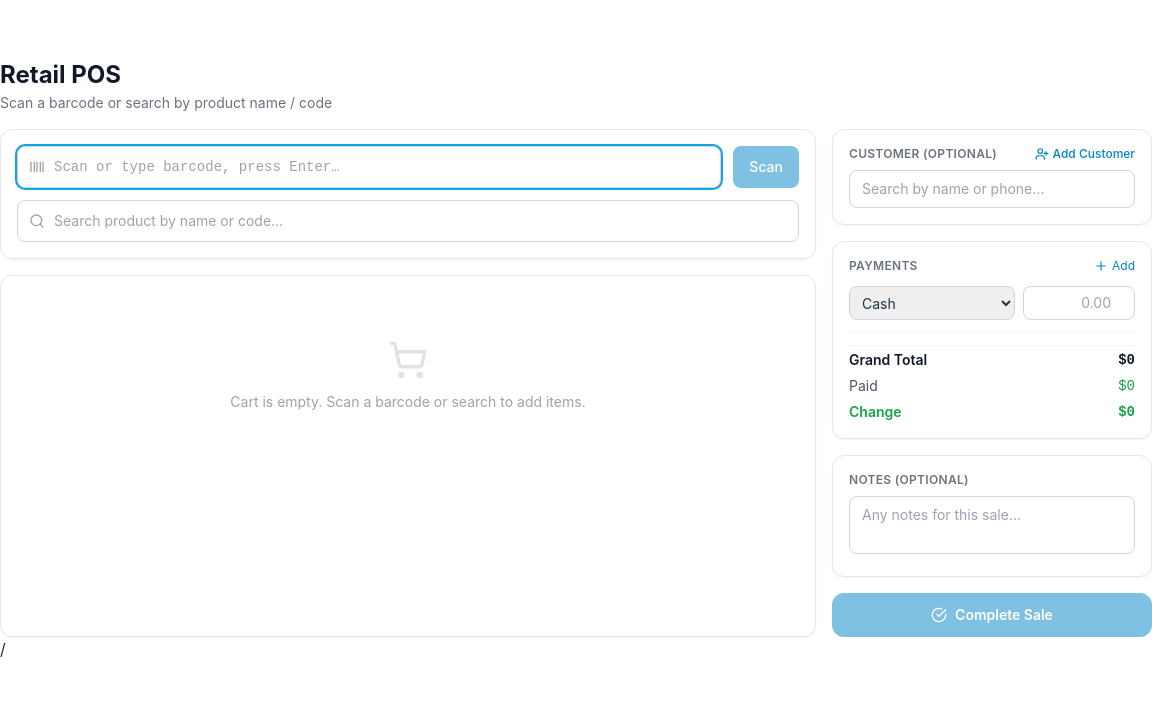
Test: Retail POS › submits the sale and shows the receipt with change
Type "0828156987886" into the field labelled "barcode" at [369, 167], box [17,146,721,188]
Then press Enter
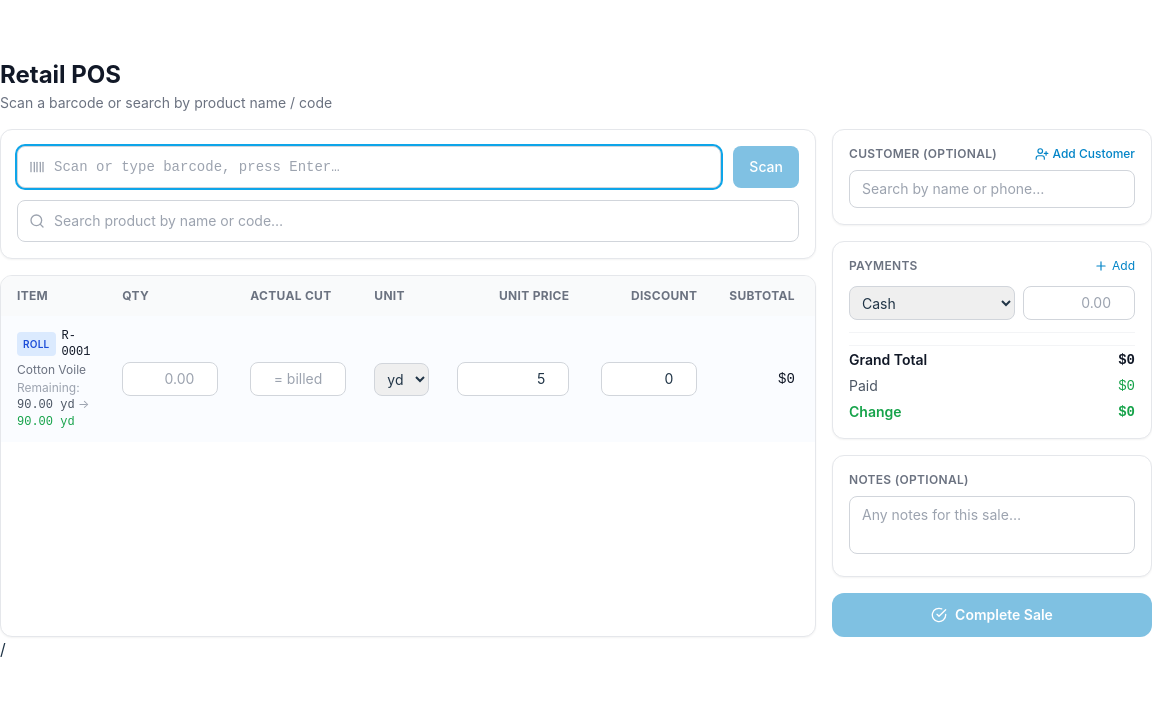
Result: the text "R-0001" is shown at [62,328,90,360]
Type "3" into the number field with placeholder "0.00" below "Roll" at [170, 379], box [122,362,218,396]
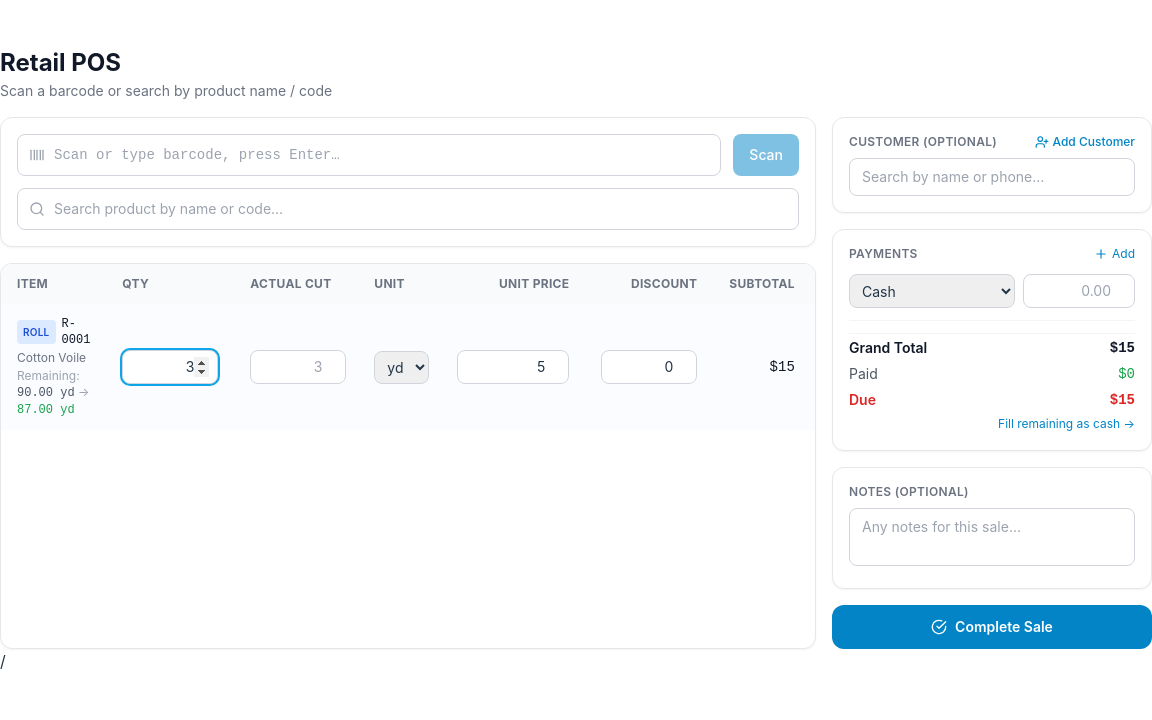
Type "3.25" into the number field named "Actual cut for R-0001" at [298, 367], box [250,350,346,384]
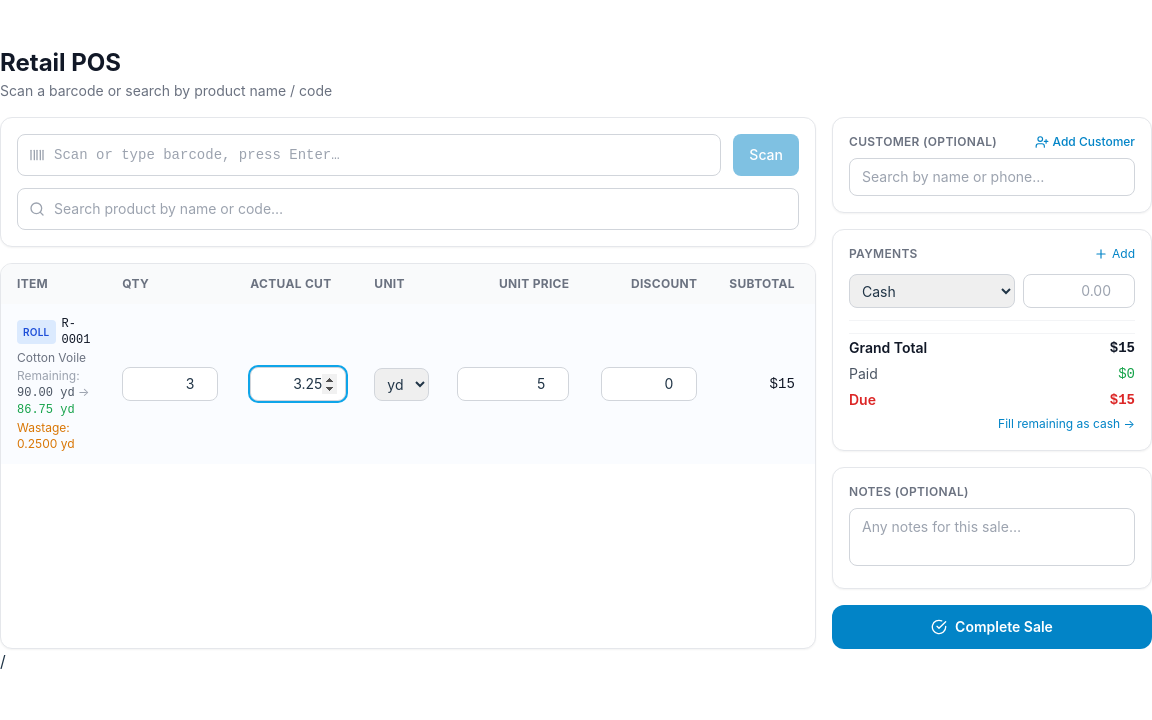
Type "20" into the number field named "Payment 1 amount" at [1079, 291], box [1023,274,1135,308]
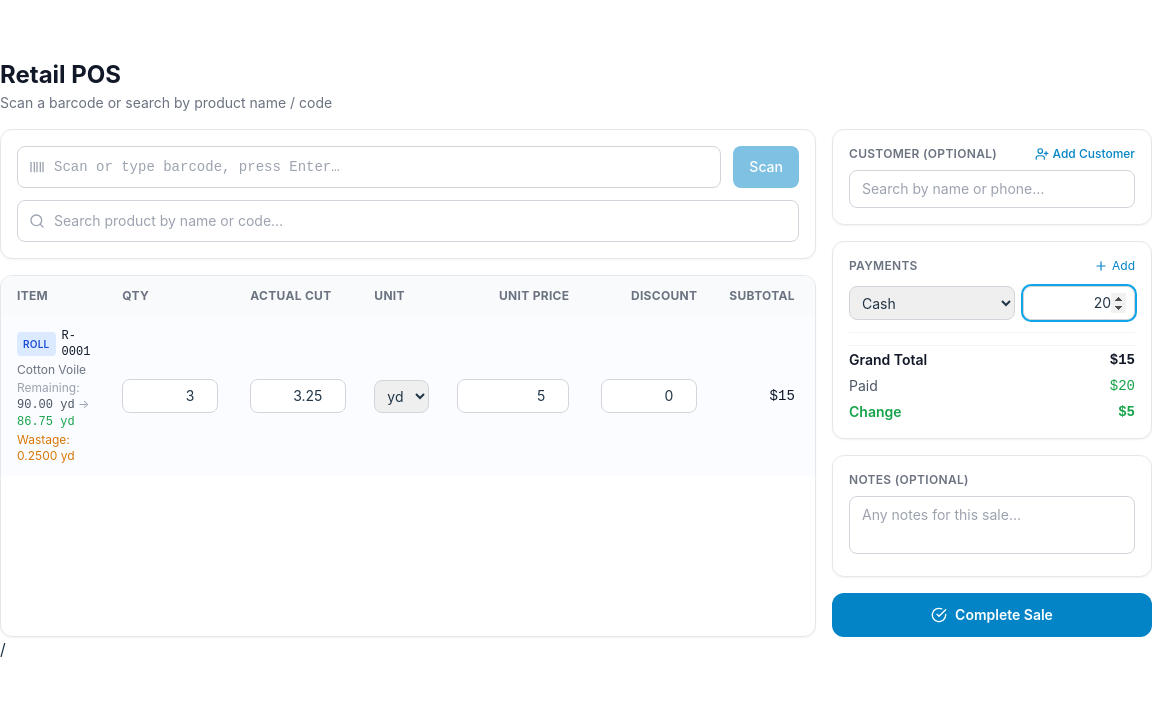
Result: the text "Change" is shown at [849,402,902,422]
Click the button "Complete Sale" at [992, 615], box [832,593,1151,637]
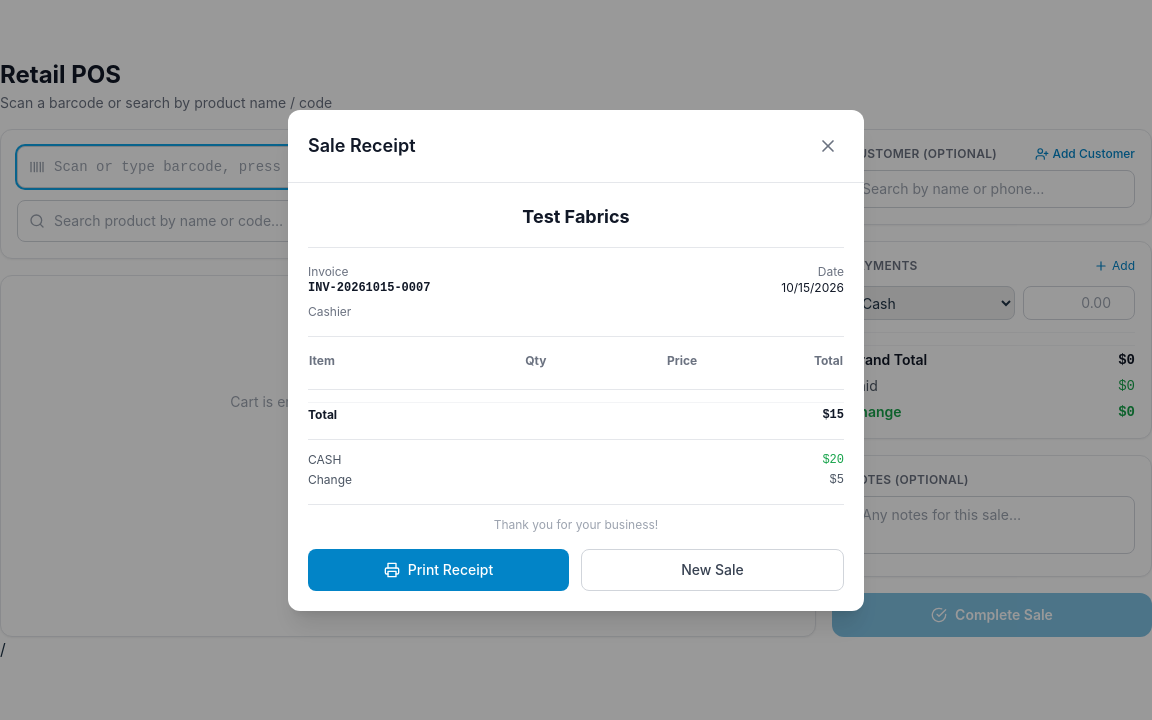
Result: the text "INV-20261015-0007" is shown at [308,280,430,294]
Result: the text "Change" is shown at [308,472,352,488]
Result: the heading "Test Fabrics" is shown at [522,206,630,226]
